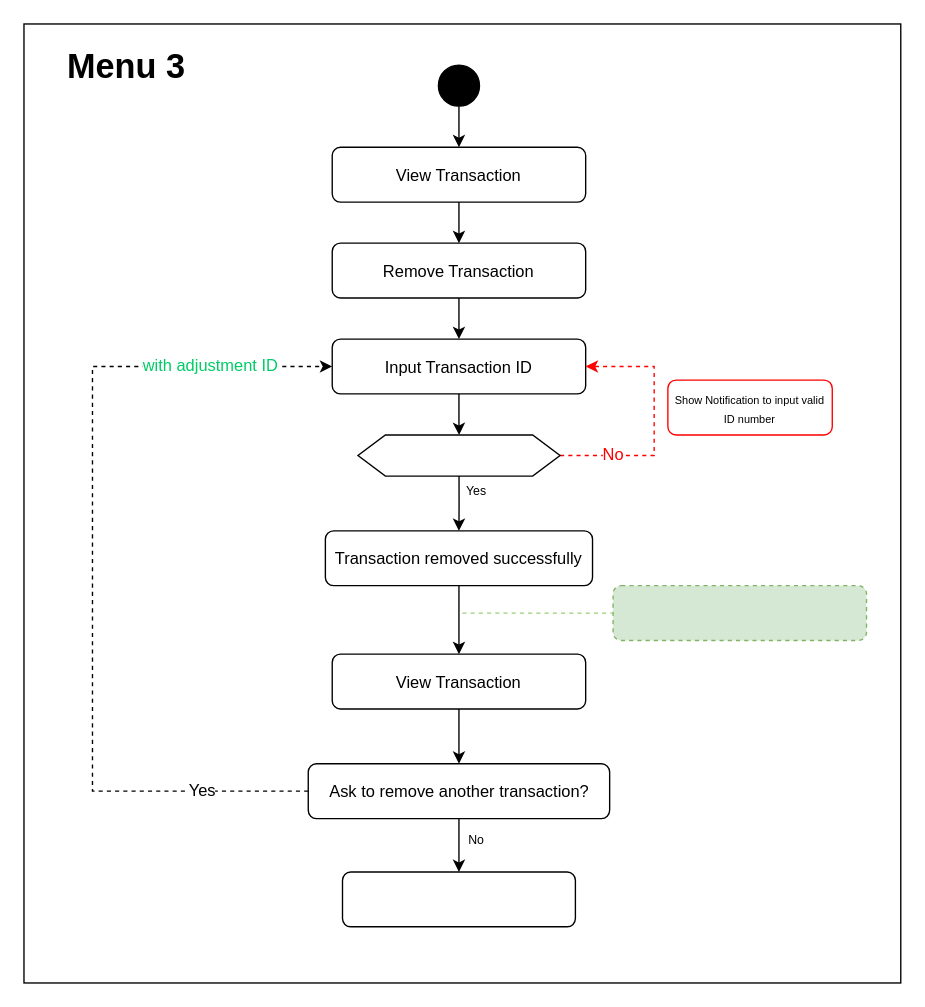
Image size: 925x1007. Some labels were removed from this diagram. Each missing label, with the box of its shape:
Back to Menu: (341, 871, 575, 927)
Reassign IDs to all Transactions: (612, 584, 867, 640)
Valid ID within range?: (357, 434, 560, 476)
